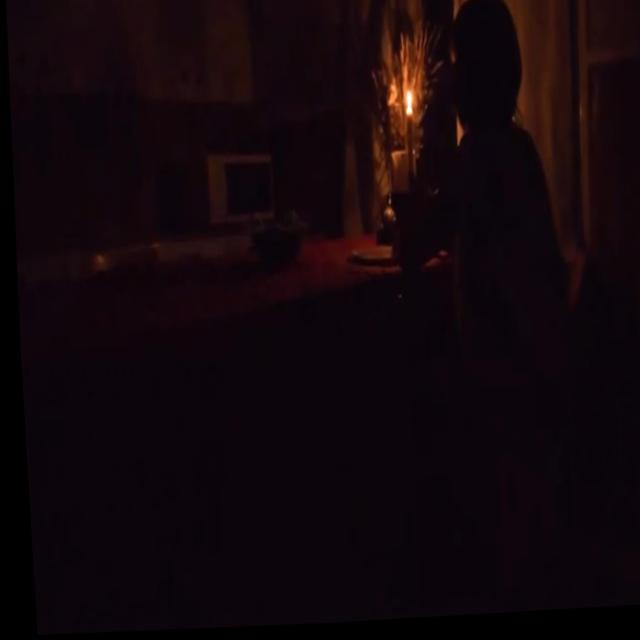fire: (402, 92, 412, 116)
